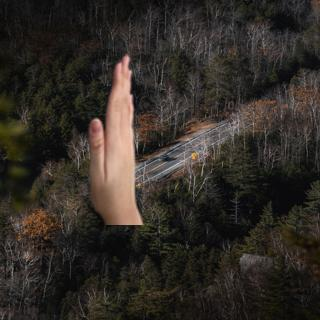Right: (84, 48, 152, 233)
